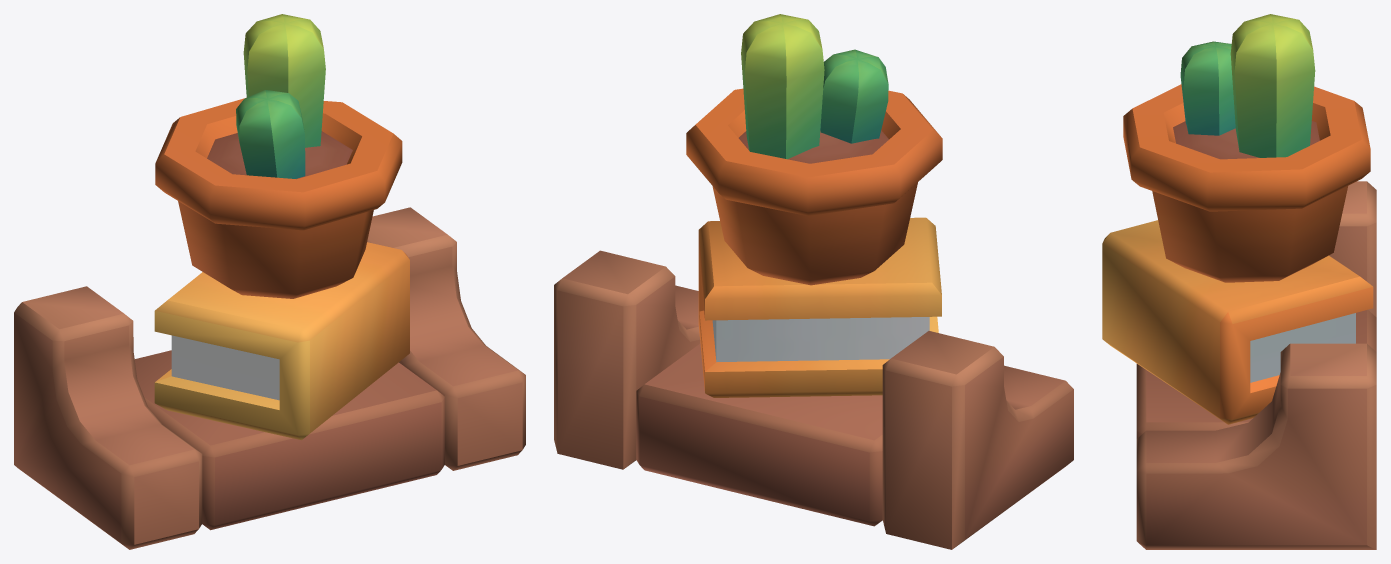
Rendered from kkf.shelf_b_small_decorated.glb.
The picture shows the model from 3 angles, left to right: view 1: azimuth 30°, elevation 25°; view 2: azimuth 150°, elevation 25°; view 3: azimuth 270°, elevation 25°; orthographic projection. The views are drawn at different scales.
Parts seen in each view (by area): view 1: shelf_B_small_decorated; view 2: shelf_B_small_decorated; view 3: shelf_B_small_decorated.
Boxes of the visible parts, x1,y1,x2,y2 form: shelf_B_small_decorated: (14, 14, 525, 549); shelf_B_small_decorated: (554, 14, 1073, 549); shelf_B_small_decorated: (1102, 14, 1376, 549).
Size of the model in its own units: 0.7154 by 0.7237 by 0.4087.
Materials: 1 (1 with a texture image).
